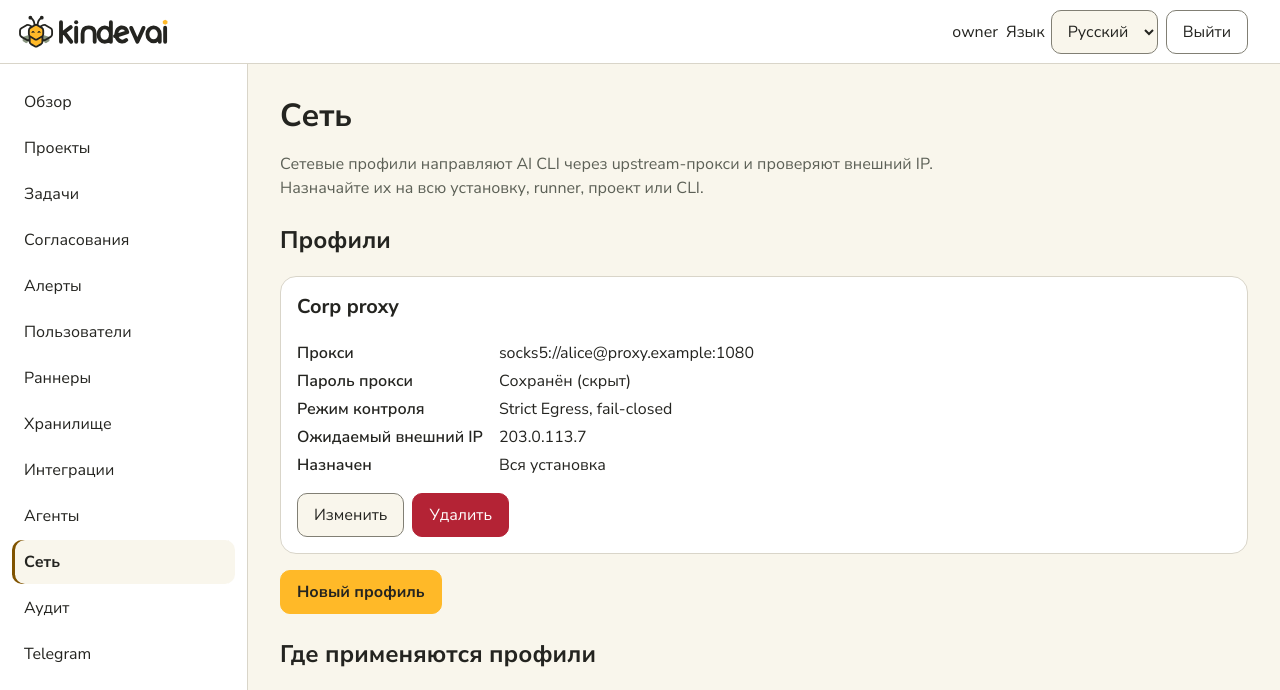
network page › asks before deleting and explains a profile in use, in Russian
Click the button with aria-label "Удалить профиль Corp proxy": (461, 515) [412,493,509,537]
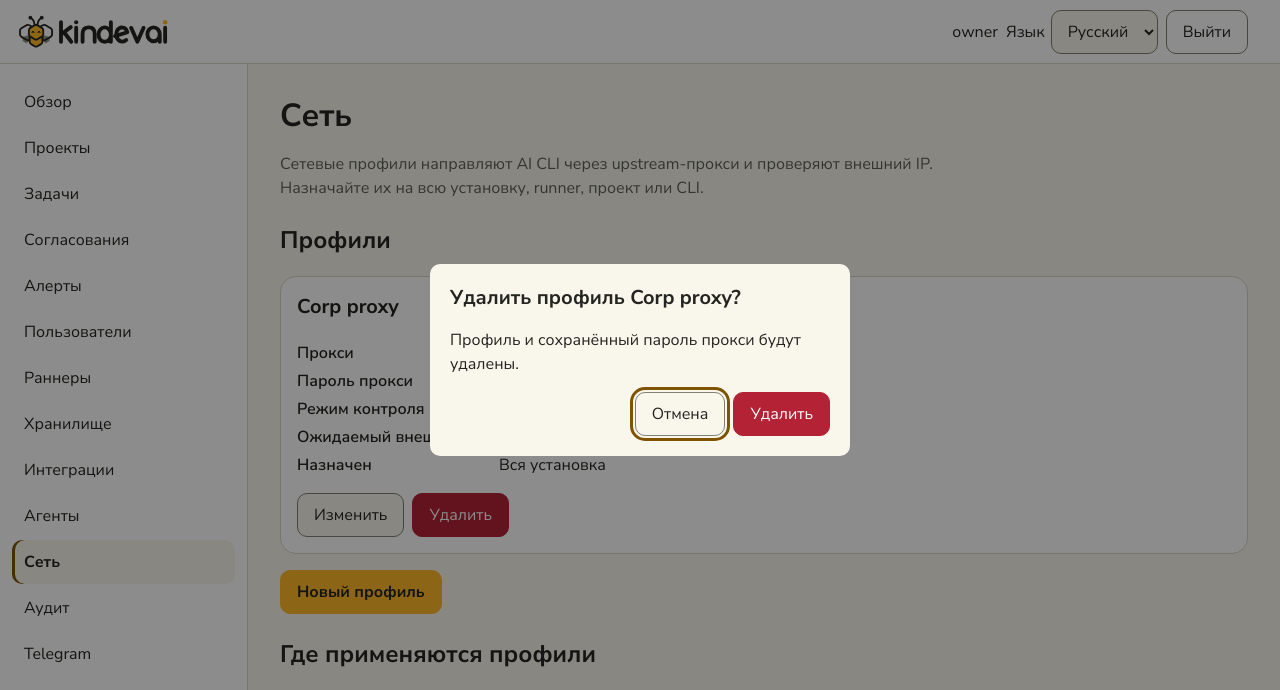
Click the button "Удалить": (782, 414) [733,392,830,436]
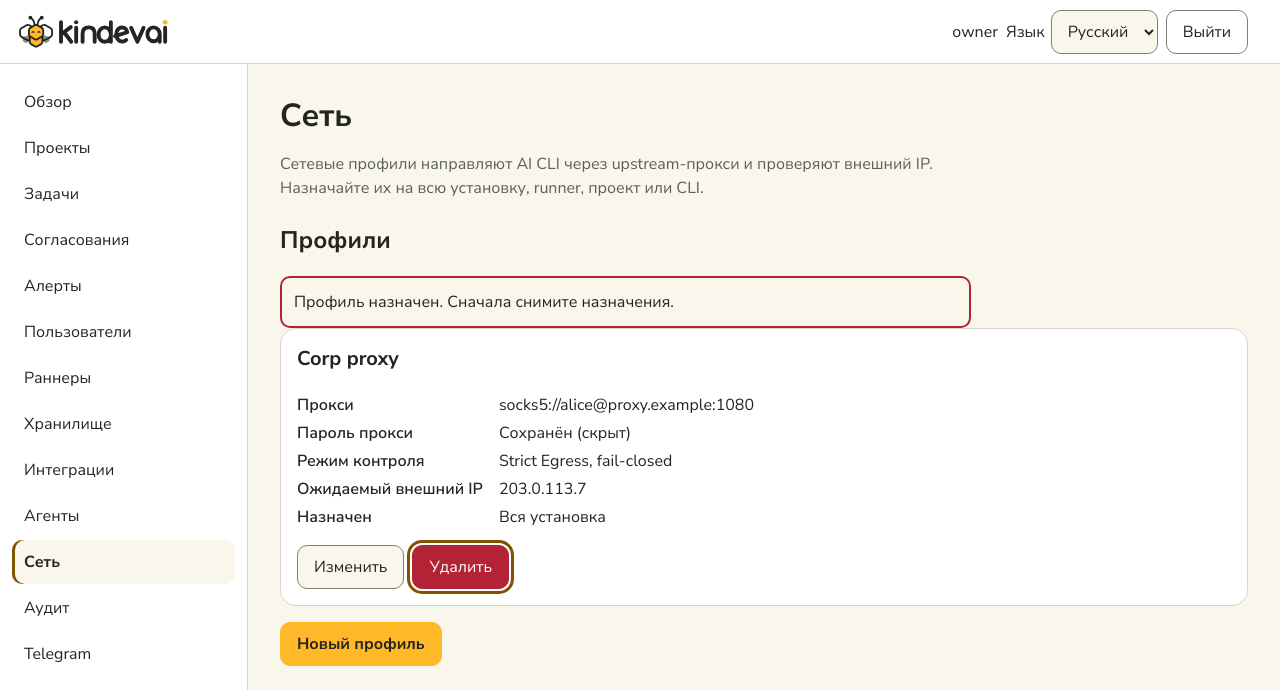
Check: the text "Профиль назначен. Сначала снимите назначения." is shown, box [280,276,971,328]
